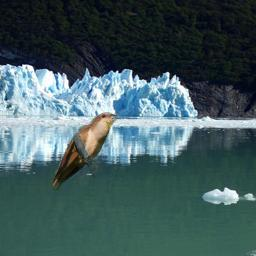Cuckoo: (49, 112, 118, 193)
